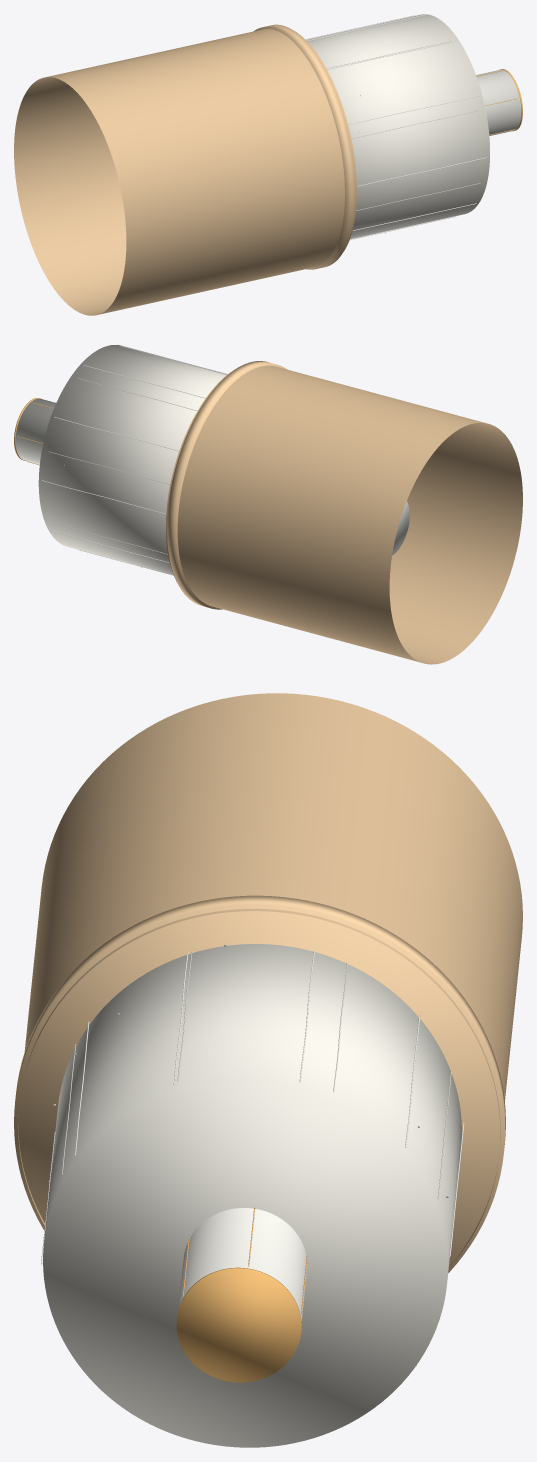
The model's file is rf-ut250-macro.glb.
3 renders of one model, top to bottom at view 1: azimuth 30°, elevation 25°; view 2: azimuth 150°, elevation 25°; view 3: azimuth 270°, elevation 25°, orthographic. The views are drawn at different scales.
Visible parts, largest first — view 1: macro semi rigid tube shield, macro PTFE dielectric core, semi rigid tube cut rim, polished solid center conductor; view 2: macro semi rigid tube shield, macro PTFE dielectric core, semi rigid tube cut rim, polished solid center conductor; view 3: macro PTFE dielectric core, macro semi rigid tube shield, semi rigid tube cut rim, polished conductor cut face glow, polished solid center conductor.
Boxes of the visible parts, x1=… form: macro semi rigid tube shield: x1=14, y1=29, x2=356, y2=315; macro PTFE dielectric core: x1=306, y1=14, x2=489, y2=239; semi rigid tube cut rim: x1=254, y1=24, x2=355, y2=269; polished solid center conductor: x1=476, y1=69, x2=521, y2=135; macro semi rigid tube shield: x1=166, y1=365, x2=522, y2=664; macro PTFE dielectric core: x1=38, y1=345, x2=226, y2=575; semi rigid tube cut rim: x1=167, y1=361, x2=286, y2=609; polished solid center conductor: x1=15, y1=398, x2=409, y2=555; macro PTFE dielectric core: x1=43, y1=944, x2=461, y2=1447; macro semi rigid tube shield: x1=18, y1=693, x2=522, y2=1268; semi rigid tube cut rim: x1=14, y1=895, x2=505, y2=1272; polished conductor cut face glow: x1=176, y1=1267, x2=301, y2=1382; polished solid center conductor: x1=178, y1=1208, x2=307, y2=1320.
Size of the model in its own units: 3.65 by 1.81 by 1.87.
